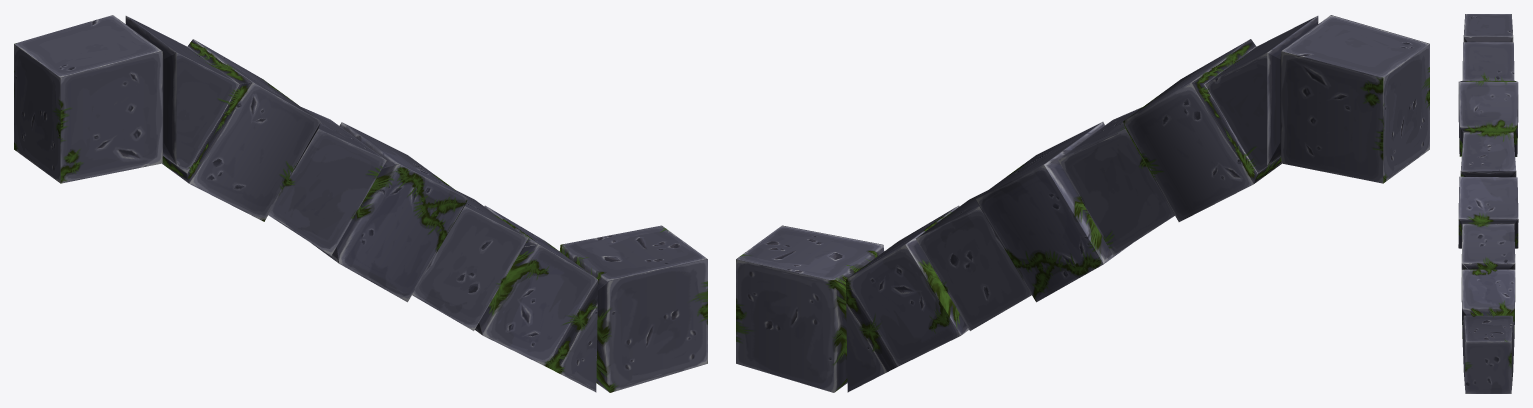
Rendered from MOD_Stairs_01_Railing_2_2.fbx.
The picture shows the model from 3 angles, left to right: view 1: azimuth 30°, elevation 25°; view 2: azimuth 150°, elevation 25°; view 3: azimuth 270°, elevation 25°; orthographic projection. The views are drawn at different scales.
Parts seen in each view (by area): view 1: MOD_Stairs_01_Railing_2_2; view 2: MOD_Stairs_01_Railing_2_2; view 3: MOD_Stairs_01_Railing_2_2.
Boxes of the visible parts, x1,y1,x2,y2 form: MOD_Stairs_01_Railing_2_2: (14, 15, 707, 392); MOD_Stairs_01_Railing_2_2: (736, 15, 1429, 392); MOD_Stairs_01_Railing_2_2: (1458, 14, 1518, 393).
Size of what is drawn, in the model's own units: 600 by 399 by 96.28.
